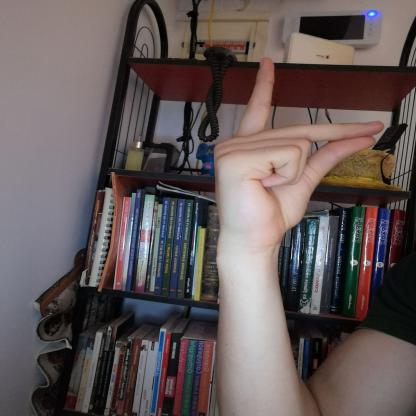TAA: (194, 49, 394, 251)
